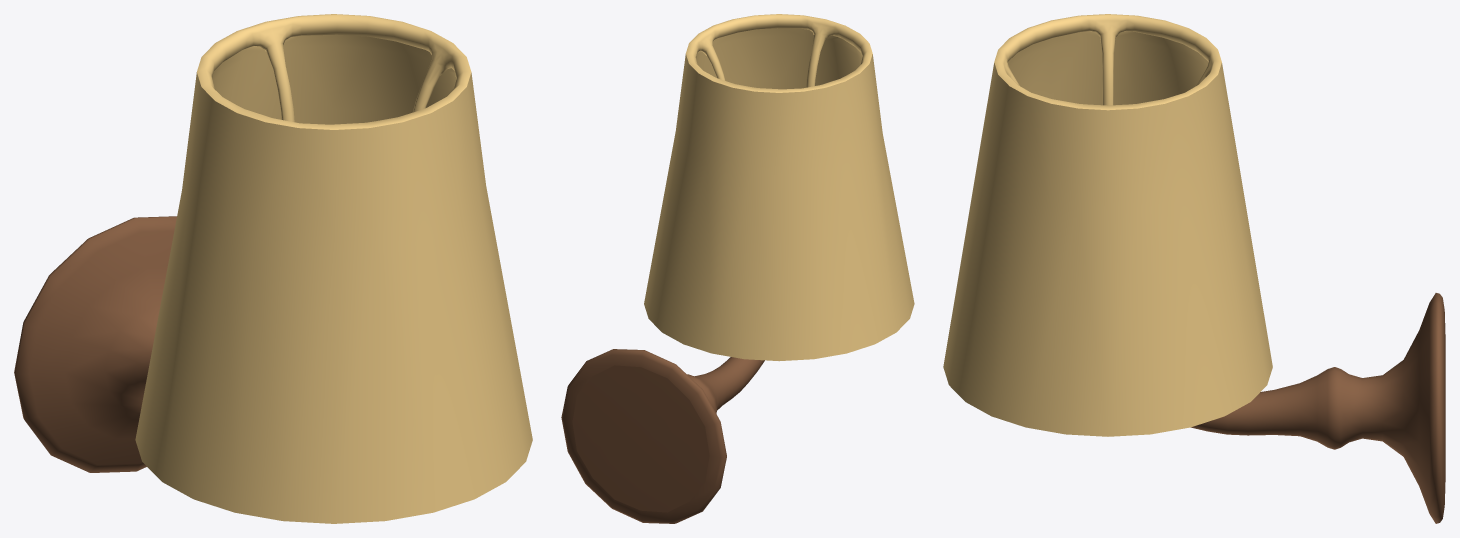
Rendered from 089_090_small_wall_lamp.glb.
The picture shows the model from 3 angles, left to right: view 1: azimuth 30°, elevation 25°; view 2: azimuth 150°, elevation 25°; view 3: azimuth 270°, elevation 25°; orthographic projection. The views are drawn at different scales.
Parts seen in each view (by area): view 1: headLow, foot.001; view 2: headLow, foot.001; view 3: headLow, foot.001.
Part boxes in pixels (box(x1,y1,x2,y2)): headLow: box(135, 14, 532, 523); foot.001: box(14, 216, 176, 472); headLow: box(644, 14, 914, 361); foot.001: box(561, 349, 764, 523); headLow: box(943, 14, 1272, 436); foot.001: box(1191, 293, 1445, 523).
Bounding box in the file's own units: 0.4896 × 0.7424 × 0.7462.
